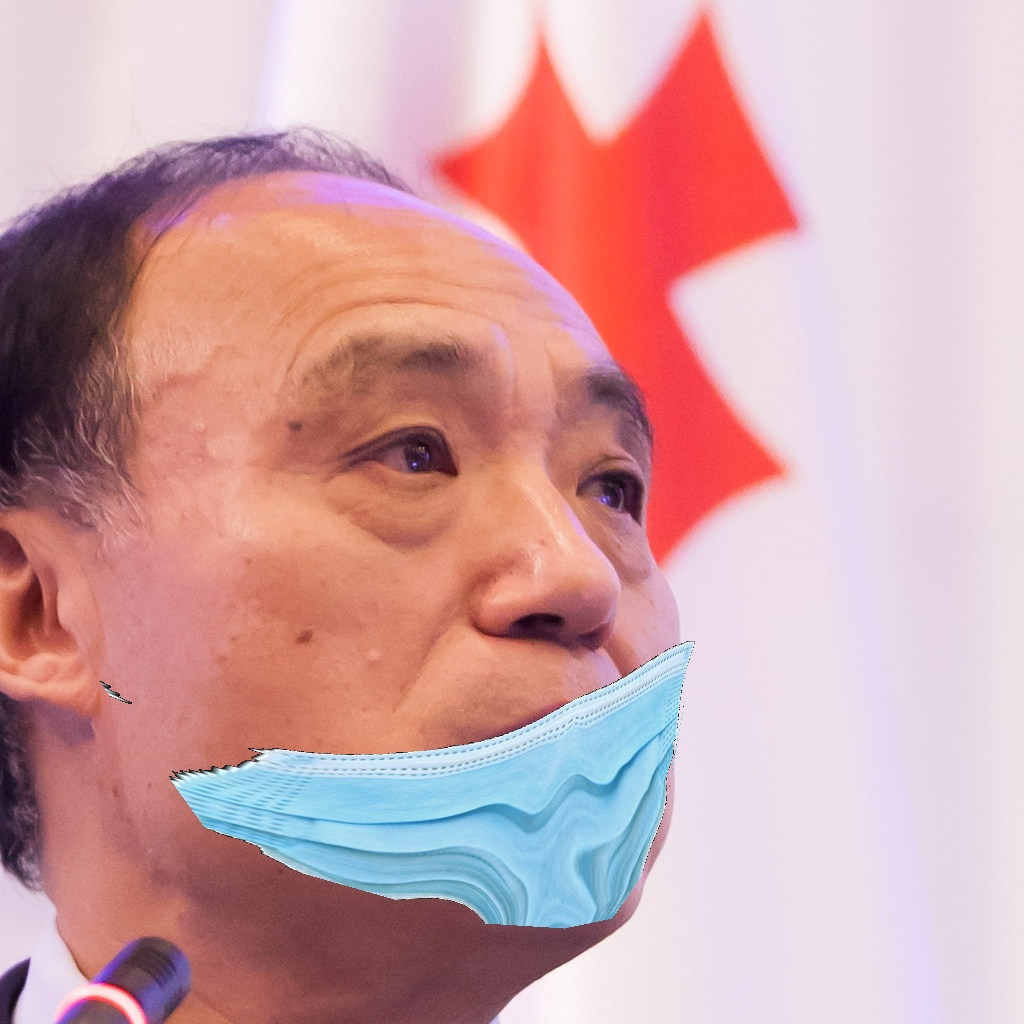mascarilla_mal_puesta: (132, 305, 739, 938)
